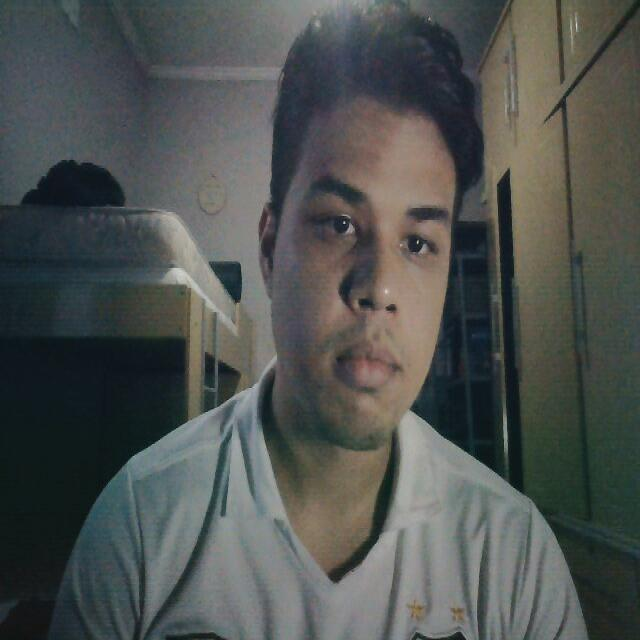acordado: (272, 76, 458, 466)
